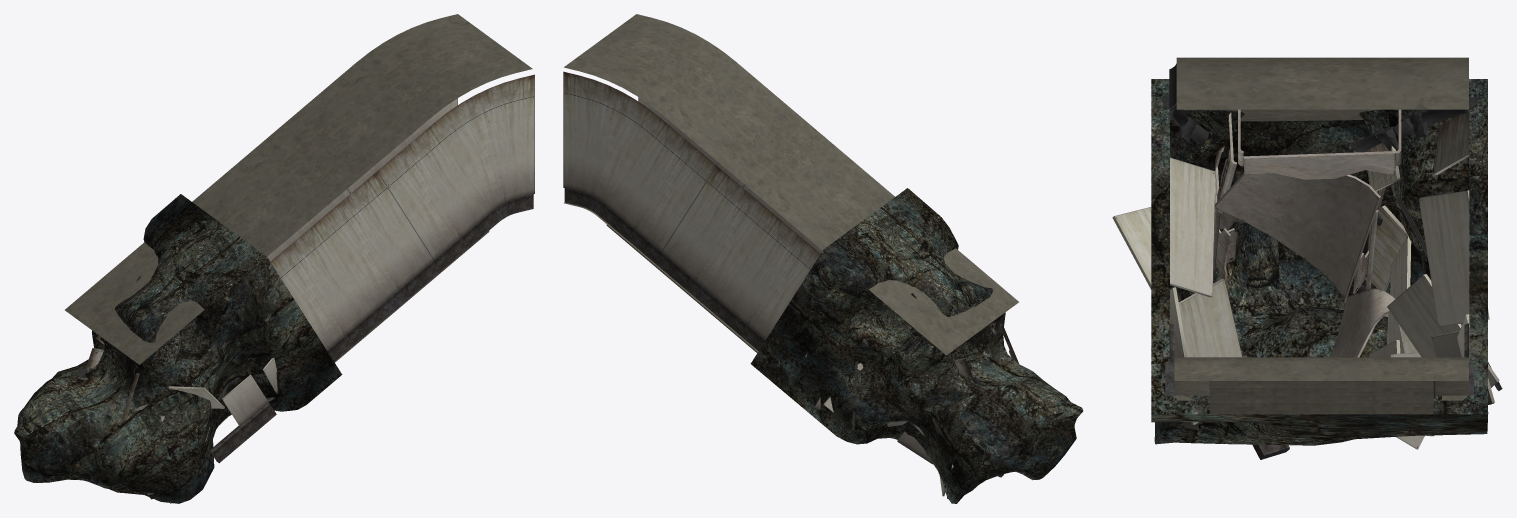
File: 02_06_stairwell_cave_in.dae
The picture shows the model from 3 angles, left to right: view 1: azimuth 30°, elevation 25°; view 2: azimuth 150°, elevation 25°; view 3: azimuth 270°, elevation 25°; orthographic projection. The views are drawn at different scales.
Visible parts, largest first — view 1: rock__3_, cave_in_03, floor__3_, walls__3_; view 2: rock__3_, cave_in_03, floor__3_, walls__3_; view 3: rock__3_, floor__3_, walls__3_, ceiling__3_, cave_in_03.
Boxes of the visible parts, x1,y1,x2,y2 form: rock__3_: (14,194,342,503); cave_in_03: (267,74,534,361); floor__3_: (65,14,532,503); walls__3_: (76,358,277,499); rock__3_: (750,188,1083,503); cave_in_03: (563,71,822,350); floor__3_: (564,14,1018,355); walls__3_: (805,353,981,498); rock__3_: (1151,79,1488,445); floor__3_: (1174,57,1468,430); walls__3_: (1112,97,1502,459); ceiling__3_: (1213,109,1401,357); cave_in_03: (1169,63,1468,362).
Size of the model in its own units: 14.68 by 10.29 by 5.21.
